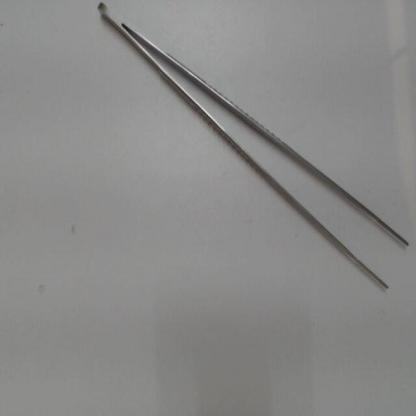DeBakey Dissector: (89, 2, 415, 309)
